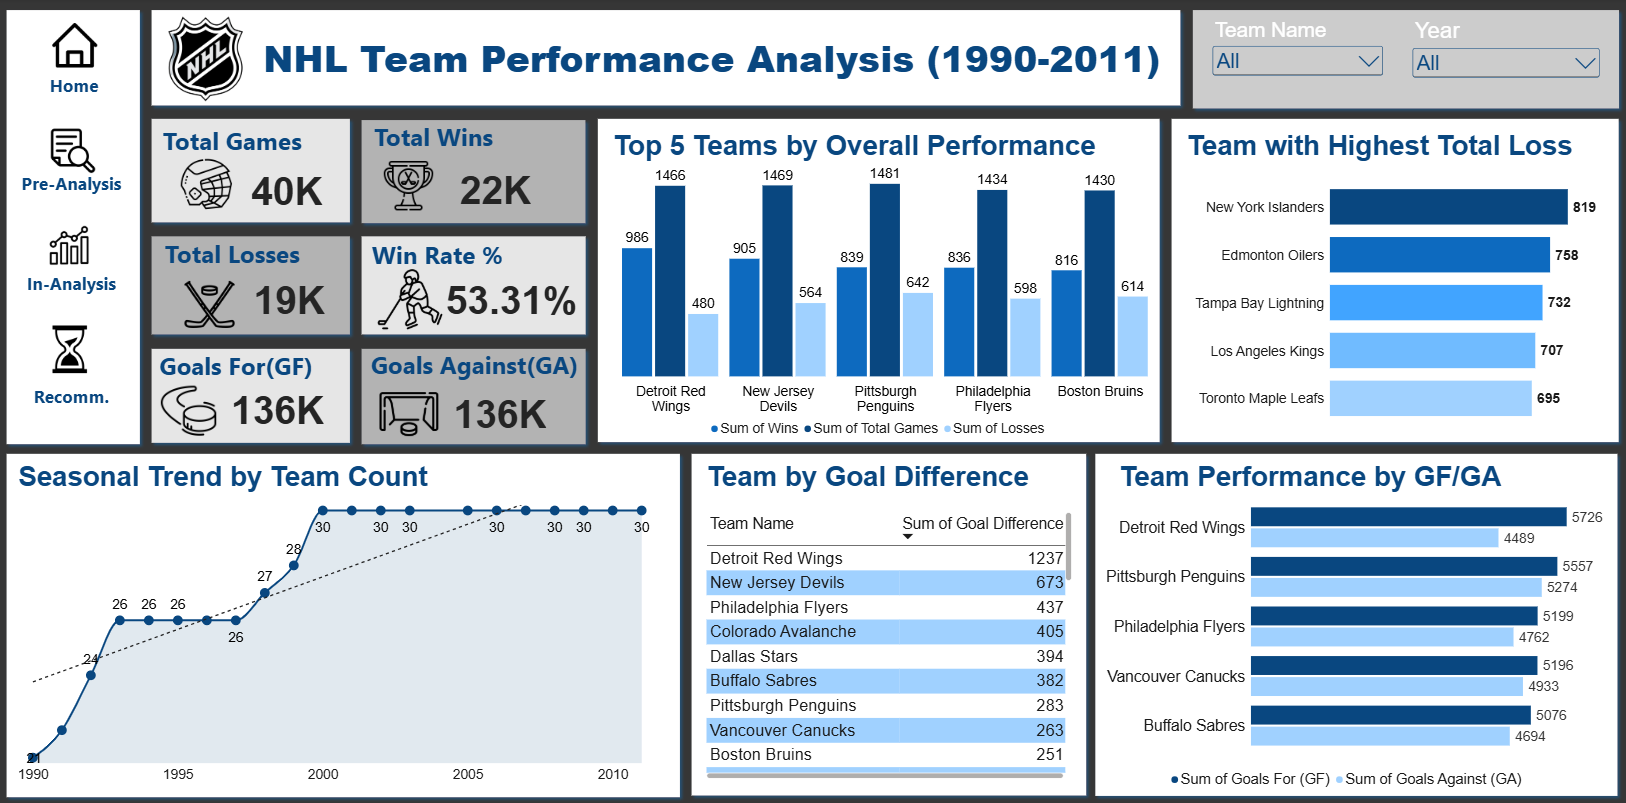

The dashboard page shown, as its layout file describes it:
{"tool":"powerbi","page":{"name":"NHL Performance Dashboard","canvas":[2523,1249],"ordinal":3},"visuals":[{"type":"shape","box":[5.8,695.2,1058.2,548.4],"z":0},{"type":"shape","box":[1063.4,696.1,627.6,545.8],"z":1000},{"type":"shape","box":[1687.7,695.2,824.6,546.5],"z":2000},{"type":"shape","box":[919,177.2,885.9,517.4],"z":3000},{"type":"shape","box":[1837.5,10.5,676.4,169.9],"z":4000},{"type":"shape","box":[6.3,10.5,223.9,688.5],"z":5000},{"type":"shape","box":[230.2,10.5,1607.3,165.3],"z":6000},{"type":"shape","box":[230.2,177.9,324.4,177.9],"z":7000},{"type":"shape","box":[555.2,179.5,363.8,177.2],"z":8000},{"type":"shape","box":[230.2,360,324.4,169.5],"z":9000},{"type":"textbox","box":[32.8,714.5,747.3,65.7],"z":10000},{"type":"textbox","box":[411.1,52,1405.6,94.5],"z":11000},{"type":"textbox","box":[952,202.8,813,54.1],"z":12000},{"type":"textbox","box":[1096.8,714.5,533.9,66.1],"z":13000},{"type":"lineChart","fields":{"Category":["Hockey Team.Year"],"Y":["Hockey Team.Team Count"]},"box":[14.6,761.8,1065.3,468.8],"z":14000},{"type":"clusteredColumnChart","fields":{"Category":["Hockey Team.Team Name"],"Y":["Sum(Hockey Team.Wins)","Sum(Hockey Team.Total Games)","Sum(Hockey Team.Losses)"]},"box":[862.3,231.5,999.3,467.7],"z":15000},{"type":"shape","box":[554.6,360,364.2,169.5],"z":16000},{"type":"shape","box":[1804.8,177.2,708.7,517.4],"z":17000},{"type":"cardVisual","fields":{"Data":["Sum(Hockey Team.Total Games)"]},"box":[368.3,251.1,158.7,96.7],"z":18000},{"type":"textbox","box":[230.2,194.6,267.8,64.5],"z":19000},{"type":"textbox","box":[546.2,370.4,267.8,64.5],"z":20000},{"type":"textbox","box":[230.2,368.3,267.8,64.5],"z":21000},{"type":"textbox","box":[540,188.4,267.8,64.5],"z":22000},{"type":"clusteredBarChart","fields":{"Category":["Hockey Team.Team Name"],"Y":["Sum(Hockey Team.Goals For (GF))","Sum(Hockey Team.Goals Against (GA))"]},"box":[1676.2,733.8,820.7,507.9],"z":23000},{"type":"cardVisual","fields":{"Data":["Hockey Team.Win Rate"]},"box":[671.8,426.9,247,81.6],"z":24000},{"type":"shape","box":[230.2,533.7,324.4,163.2],"z":25000},{"type":"shape","box":[554.6,533.7,364.2,165.3],"z":26000},{"type":"textbox","box":[1734.1,714.5,643,65.7],"z":27000},{"type":"textbox","box":[236.5,542,267.8,64.5],"z":28000},{"type":"tableEx","fields":{"Values":["Hockey Team.Team Name","Sum(Hockey Team.Goal Difference)"]},"box":[1079.9,780.6,596.5,441.6],"z":29000},{"type":"cardVisual","fields":{"Data":["Sum(Hockey Team.Wins)"]},"box":[699,236.5,163.2,123.5],"z":30000},{"type":"textbox","box":[571.3,540,332.5,63.8],"z":31000},{"type":"cardVisual","fields":{"Data":["Sum(Hockey Team.Losses)"]},"box":[380.9,403.9,146.3,127.7],"z":32000},{"type":"cardVisual","fields":{"Data":["Sum(Hockey Team.Goals For (GF))"]},"box":[345.3,577.6,191.5,119.7],"z":33000},{"type":"cardVisual","fields":{"Data":["Sum(Hockey Team.Goals Against (GA))"]},"box":[688.5,594.4,192.5,98.4],"z":34000},{"type":"barChart","fields":{"Category":["Hockey Team.Team Name"],"Y":["Sum(Hockey Team.Losses)"]},"box":[1817.1,243.3,706.8,449.9],"z":35000},{"type":"textbox","box":[1838.4,202.8,643,65.7],"z":36000},{"type":"image","box":[219.7,26,207.2,138.1],"z":37000},{"type":"image","box":[62.8,37.7,113,69.1],"z":38000},{"type":"image","box":[83.7,177.9,69.1,117.2],"z":39000},{"type":"image","box":[48.1,506.5,127.7,73.2],"z":40000},{"type":"image","box":[81.6,320.2,60.7,123.5],"z":41000},{"type":"textbox","box":[50.2,115.1,138.1,64.9],"z":42000},{"type":"textbox","box":[0,267.9,230.2,64.9],"z":43000},{"type":"textbox","box":[0,422.8,230.2,64.9],"z":44000},{"type":"textbox","box":[0,596.5,230.2,64.9],"z":45000},{"type":"image","box":[284.6,213.5,79.5,146.5],"z":46000},{"type":"image","box":[590.2,249,90,81.6],"z":47000},{"type":"image","box":[249,594.4,94.2,85.8],"z":48000},{"type":"image","box":[571.3,590.2,129.9,103.9],"z":49000},{"type":"image","box":[270,435.3,115.8,78],"z":50000},{"type":"image","box":[571.3,406,127.7,123.5],"z":51000},{"type":"slicer","fields":{"Values":["Hockey Team.Team Name"]},"box":[1874.1,31.3,273,102.4],"z":52000},{"type":"slicer","fields":{"Values":["Hockey Team.Year"]},"box":[2181.2,31.3,298.6,122.3],"z":53000}]}

Visuals, with their boxes in screenshot pixels (x1, y1, x2, y2), scaled from the page's 2523x1249 canvas onto the 1626x803 screenshot:
shape: [x1=4, y1=447, x2=686, y2=800]
shape: [x1=685, y1=448, x2=1090, y2=798]
shape: [x1=1088, y1=447, x2=1619, y2=798]
shape: [x1=592, y1=114, x2=1163, y2=447]
shape: [x1=1184, y1=7, x2=1620, y2=116]
shape: [x1=4, y1=7, x2=148, y2=449]
shape: [x1=148, y1=7, x2=1184, y2=113]
shape: [x1=148, y1=114, x2=357, y2=229]
shape: [x1=358, y1=115, x2=592, y2=229]
shape: [x1=148, y1=231, x2=357, y2=340]
textbox: [x1=21, y1=459, x2=503, y2=502]
textbox: [x1=265, y1=33, x2=1171, y2=94]
textbox: [x1=614, y1=130, x2=1137, y2=165]
textbox: [x1=707, y1=459, x2=1051, y2=502]
lineChart - Hockey Team.Year x Hockey Team.Team Count: [x1=9, y1=490, x2=696, y2=791]
clusteredColumnChart - Hockey Team.Team Name x Sum(Hockey Team.Wins): [x1=556, y1=149, x2=1200, y2=450]
shape: [x1=357, y1=231, x2=592, y2=340]
shape: [x1=1163, y1=114, x2=1620, y2=447]
cardVisual - Sum(Hockey Team.Total Games): [x1=237, y1=161, x2=340, y2=224]
textbox: [x1=148, y1=125, x2=321, y2=167]
textbox: [x1=352, y1=238, x2=525, y2=280]
textbox: [x1=148, y1=237, x2=321, y2=278]
textbox: [x1=348, y1=121, x2=521, y2=163]
clusteredBarChart - Hockey Team.Team Name x Sum(Hockey Team.Goals For (GF)): [x1=1080, y1=472, x2=1609, y2=798]
cardVisual - Hockey Team.Win Rate: [x1=433, y1=274, x2=592, y2=327]
shape: [x1=148, y1=343, x2=357, y2=448]
shape: [x1=357, y1=343, x2=592, y2=449]
textbox: [x1=1118, y1=459, x2=1532, y2=502]
textbox: [x1=152, y1=348, x2=325, y2=390]
tableEx - Hockey Team.Team Name x Sum(Hockey Team.Goal Difference): [x1=696, y1=502, x2=1080, y2=786]
cardVisual - Sum(Hockey Team.Wins): [x1=450, y1=152, x2=556, y2=231]
textbox: [x1=368, y1=347, x2=582, y2=388]
cardVisual - Sum(Hockey Team.Losses): [x1=245, y1=260, x2=340, y2=342]
cardVisual - Sum(Hockey Team.Goals For (GF)): [x1=223, y1=371, x2=346, y2=448]
cardVisual - Sum(Hockey Team.Goals Against (GA)): [x1=444, y1=382, x2=568, y2=445]
barChart - Hockey Team.Team Name x Sum(Hockey Team.Losses): [x1=1171, y1=156, x2=1625, y2=446]
textbox: [x1=1185, y1=130, x2=1599, y2=173]
image: [x1=142, y1=17, x2=275, y2=106]
image: [x1=40, y1=24, x2=113, y2=69]
image: [x1=54, y1=114, x2=98, y2=190]
image: [x1=31, y1=326, x2=113, y2=373]
image: [x1=53, y1=206, x2=92, y2=285]
textbox: [x1=32, y1=74, x2=121, y2=116]
textbox: [x1=0, y1=172, x2=148, y2=214]
textbox: [x1=0, y1=272, x2=148, y2=314]
textbox: [x1=0, y1=383, x2=148, y2=425]
image: [x1=183, y1=137, x2=235, y2=231]
image: [x1=380, y1=160, x2=438, y2=213]
image: [x1=160, y1=382, x2=221, y2=437]
image: [x1=368, y1=379, x2=452, y2=446]
image: [x1=174, y1=280, x2=249, y2=330]
image: [x1=368, y1=261, x2=450, y2=340]
slicer - Hockey Team.Team Name: [x1=1208, y1=20, x2=1384, y2=86]
slicer - Hockey Team.Year: [x1=1406, y1=20, x2=1598, y2=99]
